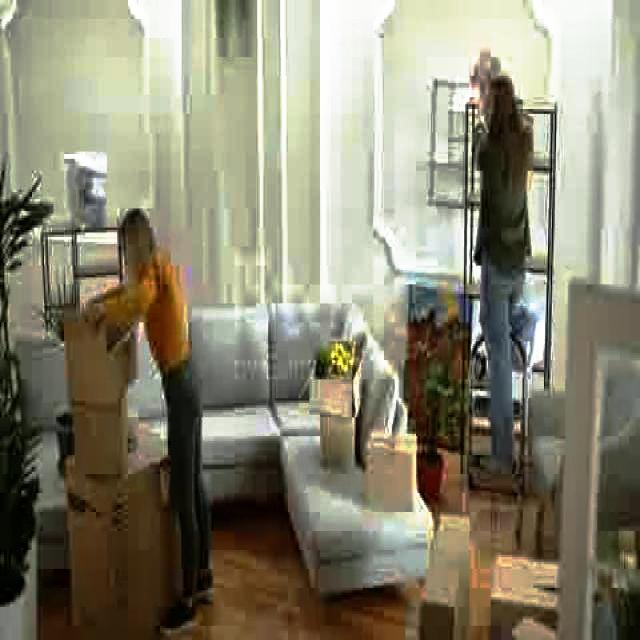Box: (76, 472, 170, 628), (426, 512, 469, 633), (486, 550, 554, 626), (314, 374, 358, 462), (363, 441, 416, 512), (76, 403, 125, 476), (73, 334, 124, 402)
